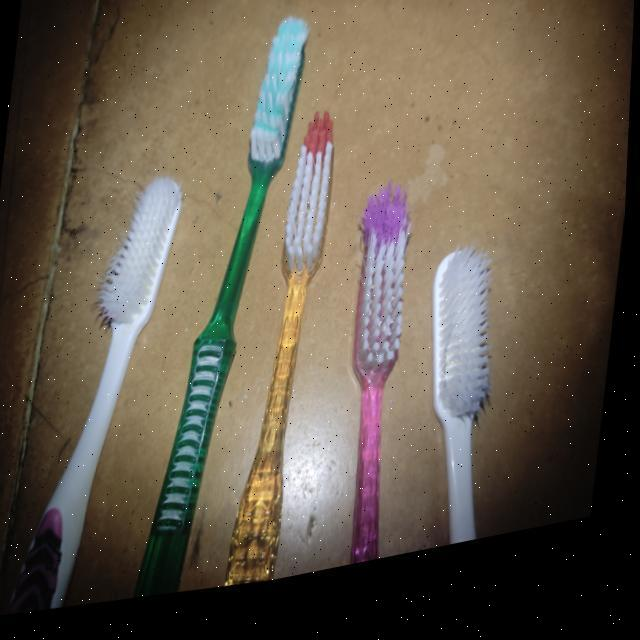toothbrush: (114, 11, 323, 606), (3, 176, 205, 616), (212, 110, 344, 598), (338, 190, 422, 584), (420, 226, 514, 567)
